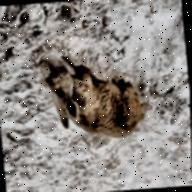boar: (37, 55, 154, 142)
